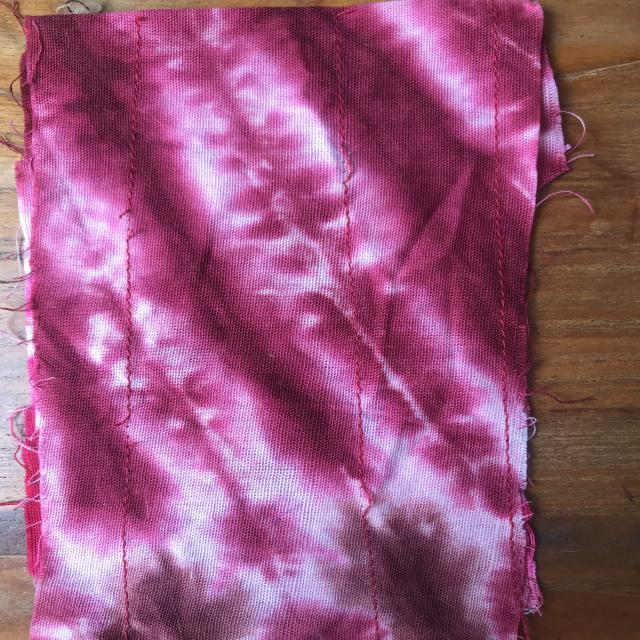broken: (92, 187, 162, 254), (110, 405, 150, 455)
skip: (335, 463, 395, 528), (323, 138, 364, 197)
